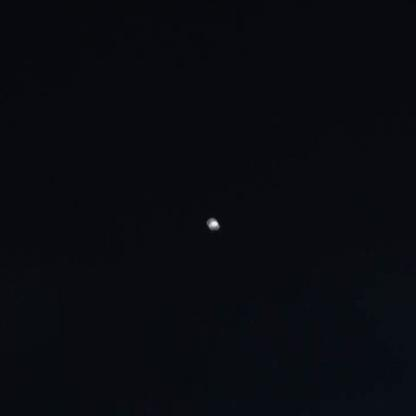ball: (198, 210, 226, 234)
